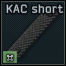KAC URX 3%53.1 short panel: (0, 0, 66, 66)
